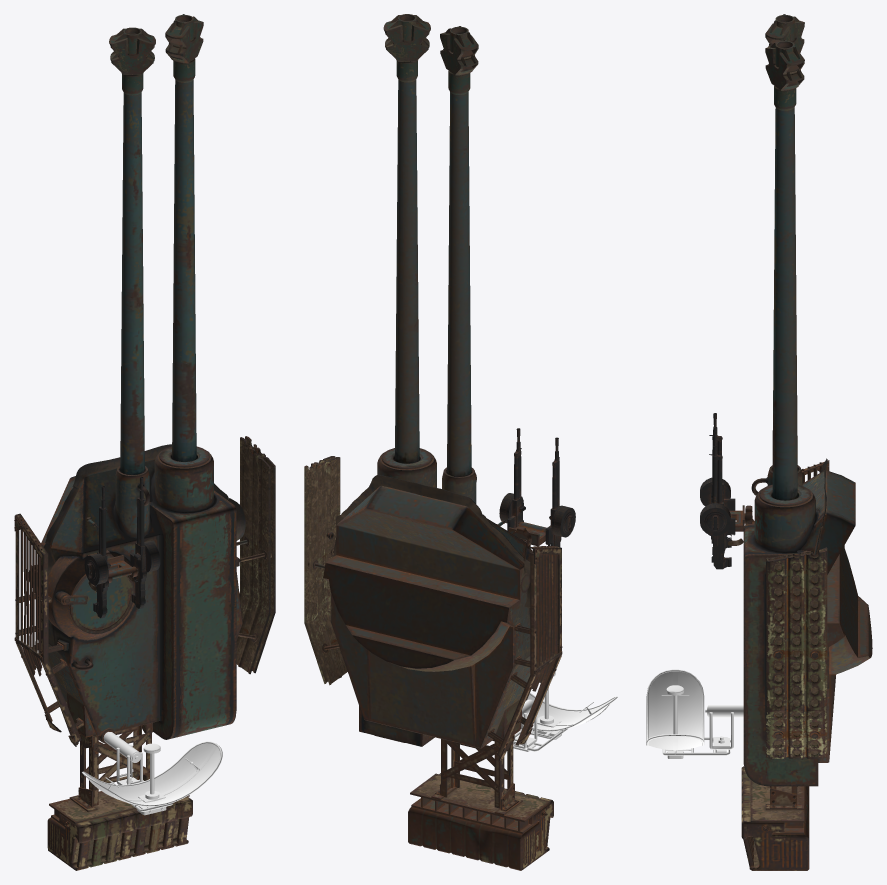
File: Gun_08.glb
3 renders of one model, left to right at view 1: azimuth 30°, elevation 25°; view 2: azimuth 150°, elevation 25°; view 3: azimuth 270°, elevation 25°, orthographic. The views are drawn at different scales.
Visible parts, largest first — view 1: set_0_group_0, set_0_group_2, set_0_group_1; view 2: set_0_group_0, set_0_group_2, set_0_group_1; view 3: set_0_group_0, set_0_group_2, set_0_group_1.
Boxes of the visible parts, box(x1,y1,x2,y2) form: set_0_group_0: box(14, 14, 271, 870); set_0_group_2: box(236, 436, 275, 674); set_0_group_1: box(82, 732, 222, 815); set_0_group_0: box(308, 14, 575, 870); set_0_group_2: box(304, 456, 347, 685); set_0_group_1: box(513, 672, 617, 751); set_0_group_0: box(700, 14, 872, 870); set_0_group_2: box(766, 547, 827, 758); set_0_group_1: box(646, 669, 743, 758).
Bounding box in the file's own units: 2.06 × 6.73 × 1.66.
3 materials, 2 textured.
